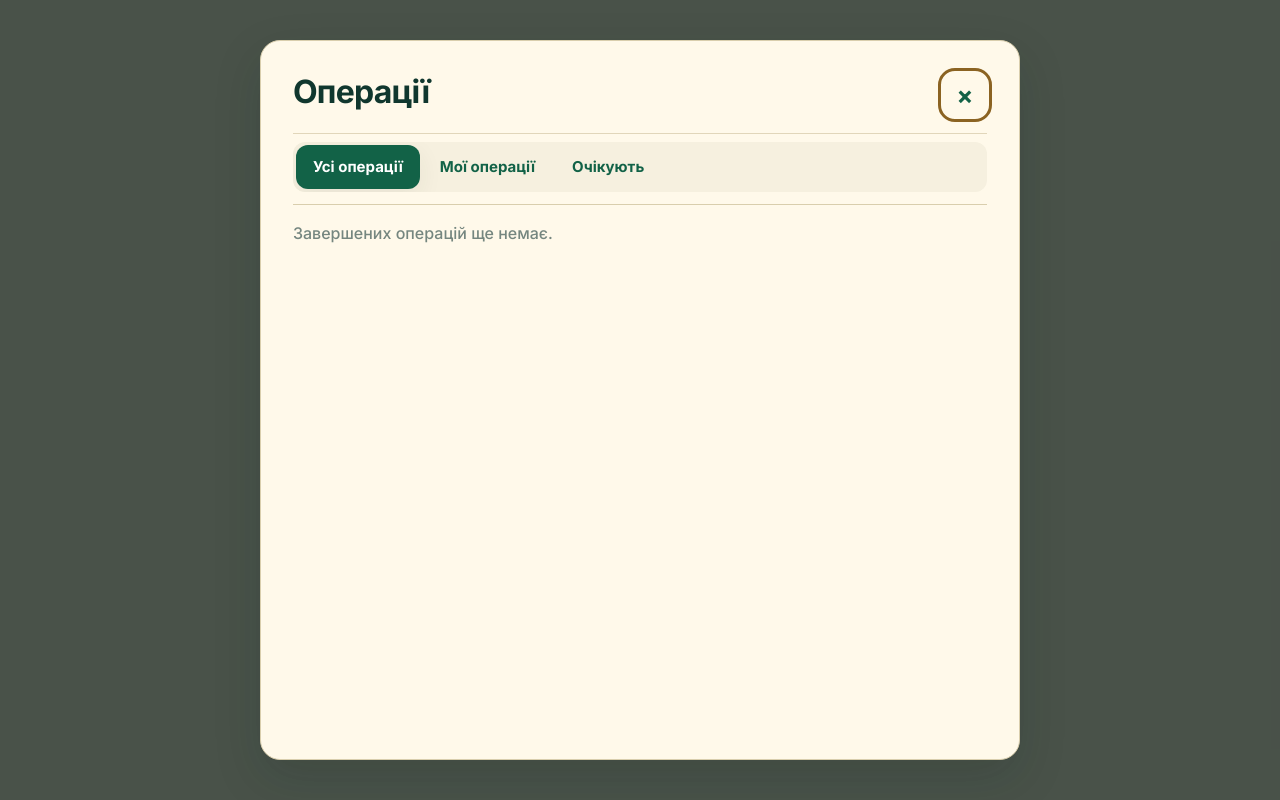
Test: activity empty states › words the empty states in Ukrainian
This screenshot has width=1280, height=800.
expect the text "Завершених операцій ще немає." is shown: met, box [293,223,553,243]
Step 1. Click the tab "Очікують" → [608, 167], box [555,145,661,189]
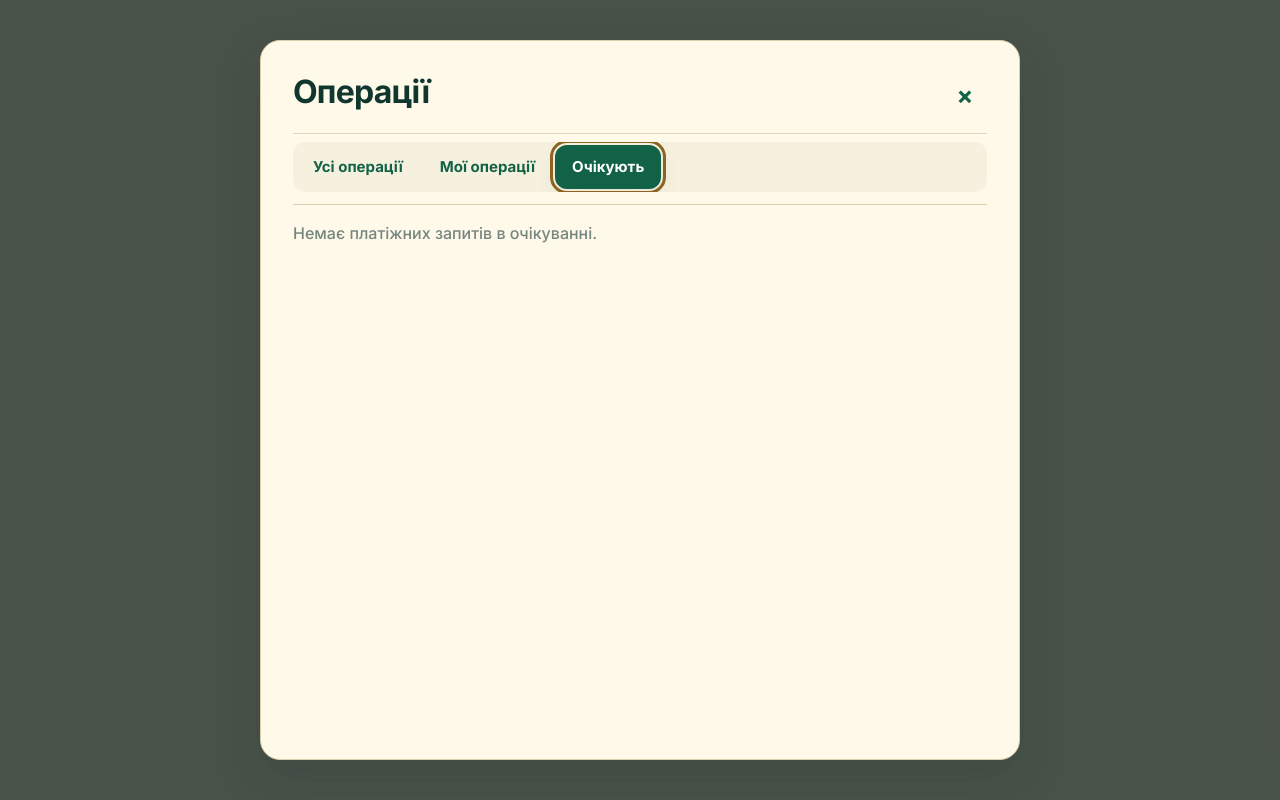
expect the text "Немає платіжних запитів в очікуванні." is shown: met, box [293,223,597,243]
